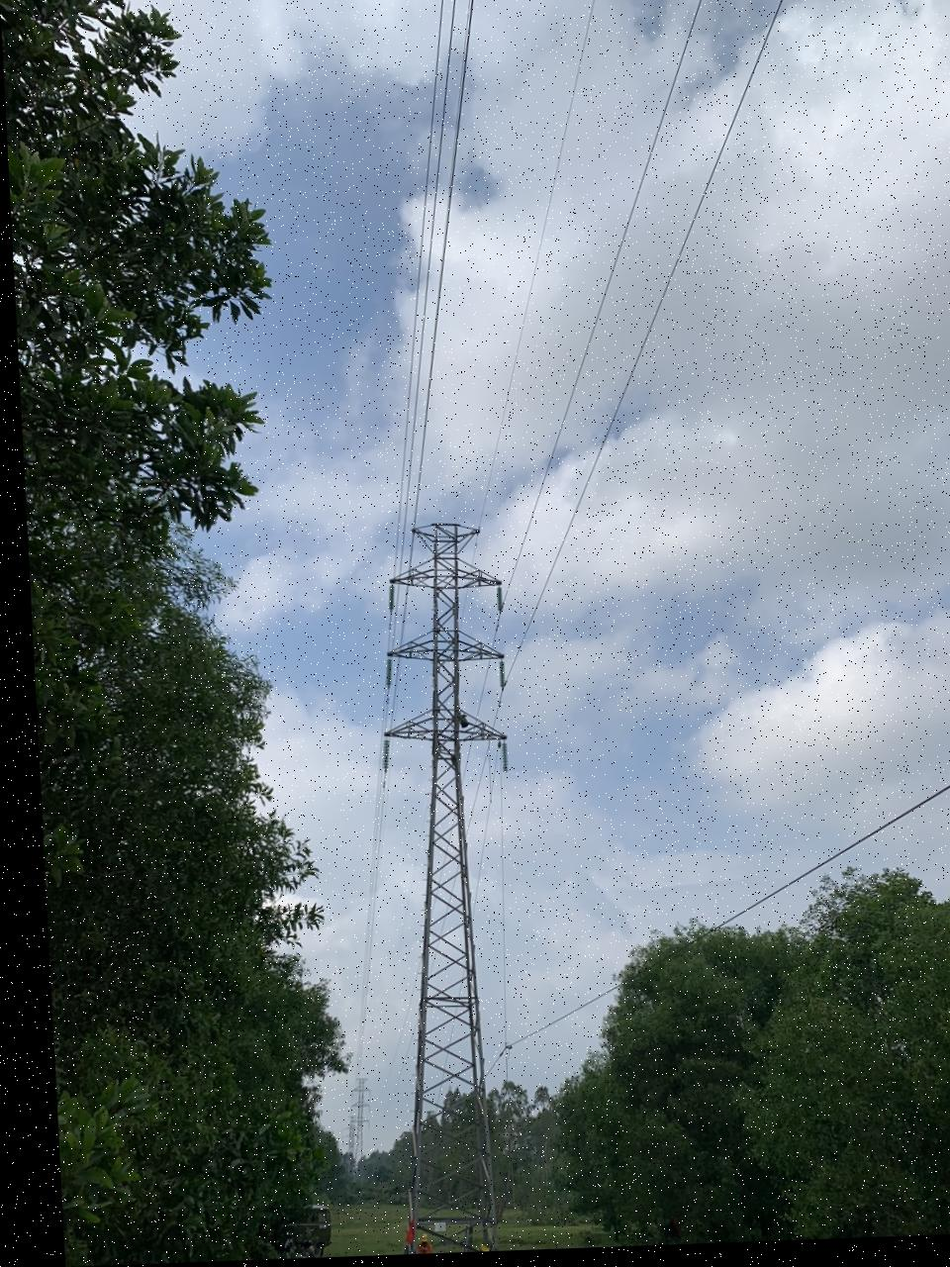tower: (356, 502, 552, 1255)
